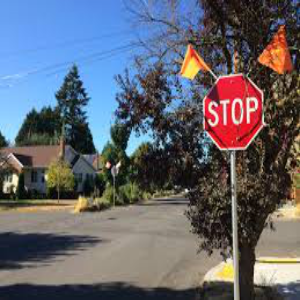STOP_SIGN: (202, 74, 263, 149)
